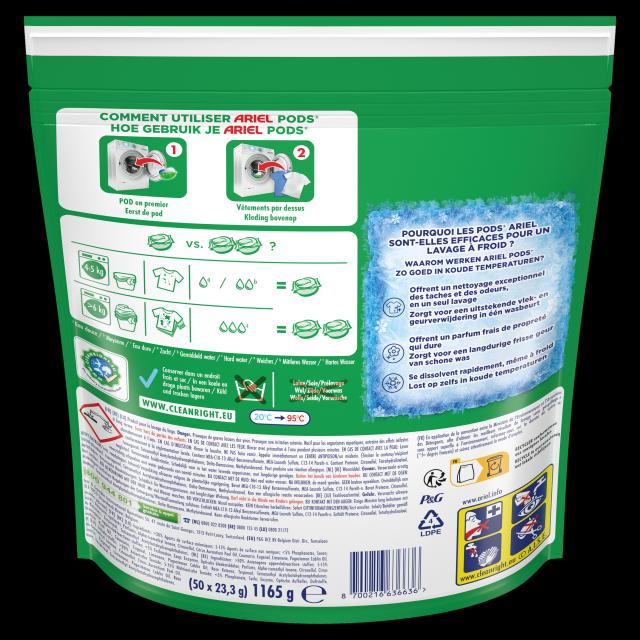GHS_Symbol_CORROSION: (80, 402, 123, 443)
